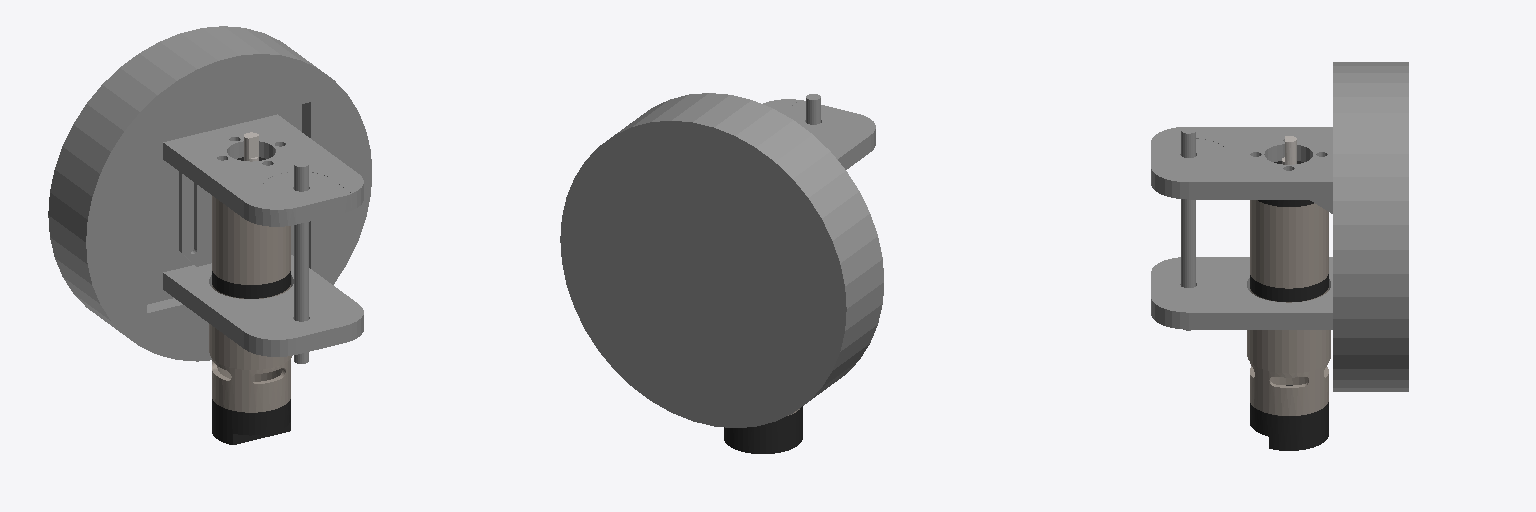
3 renders of one model, left to right at view 1: azimuth 30°, elevation 25°; view 2: azimuth 150°, elevation 25°; view 3: azimuth 270°, elevation 25°, orthographic.
Parts seen in each view (by area): view 1: Body6, Body3, Body10, Body4, Body12, Body9, Body7, Body2, Body13; view 2: Body6, Body3, Body9; view 3: Body6, Body3, Body10, Body12, Body4, Body9, Body2, Body13.
Part boxes in pixels (x1,y1,x2,y2): Body6: (48,26,371,361); Body3: (163,114,363,226); Body10: (163,255,363,356); Body4: (212,196,290,284); Body12: (209,324,291,412); Body9: (212,399,290,444); Body7: (179,172,211,266); Body2: (294,161,308,363); Body13: (212,271,290,298); Body6: (560,93,883,427); Body3: (763,99,875,169); Body9: (724,406,802,453); Body6: (1333,62,1408,391); Body3: (1151,127,1332,199); Body10: (1151,257,1332,329); Body12: (1247,330,1330,415); Body4: (1250,200,1328,288); Body9: (1250,385,1328,450); Body2: (1181,127,1195,330); Body13: (1250,274,1328,301).
Bounding box in the file's own units: 17.5 × 20.81 × 13.66.